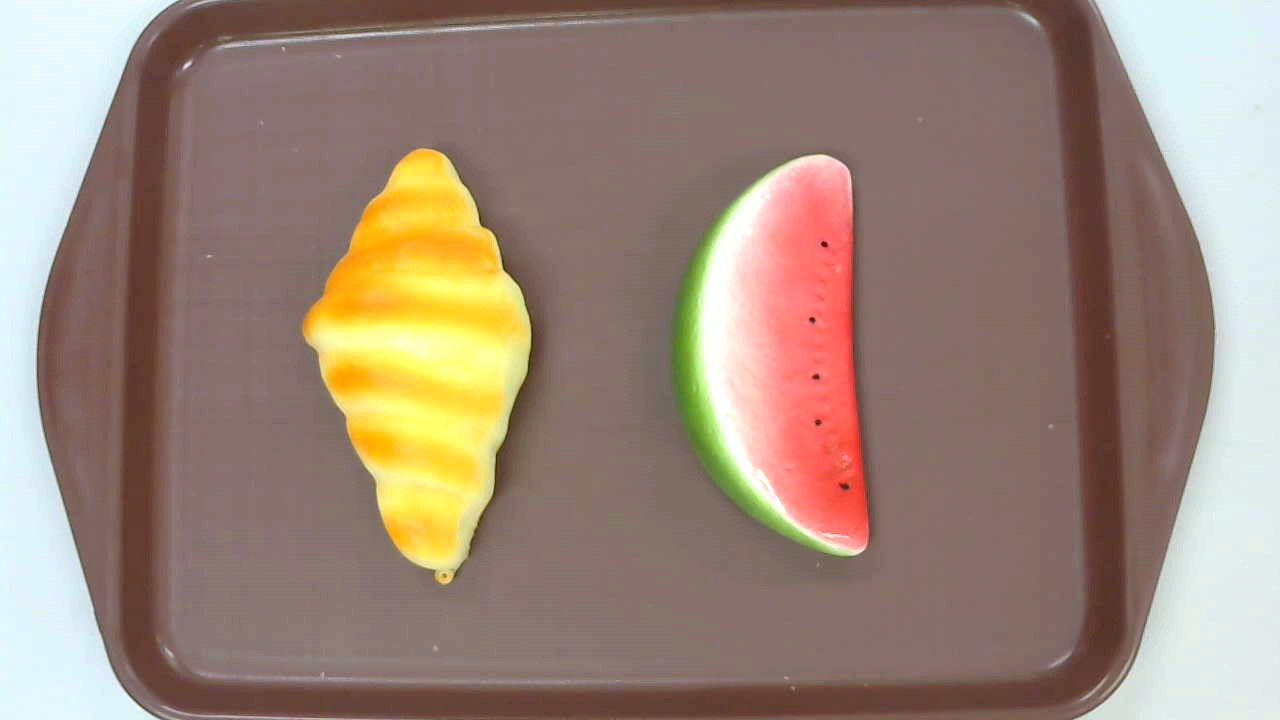croissant: (302, 149, 533, 585)
water melon: (670, 153, 870, 557)
